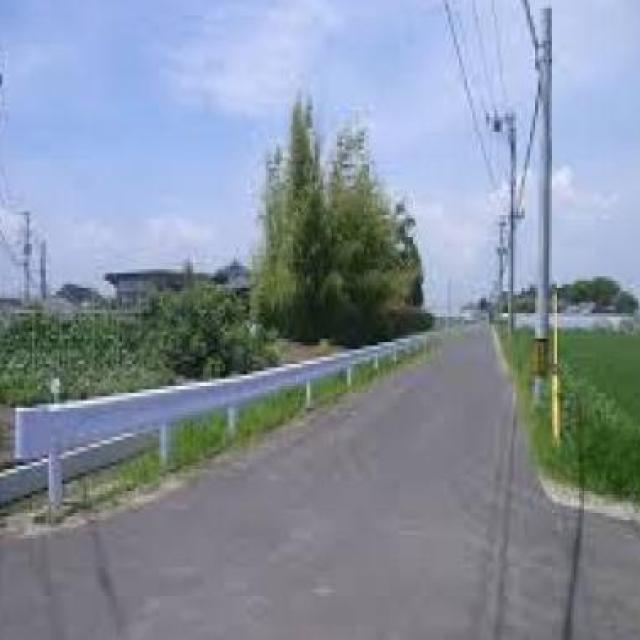Guard rail: (12, 323, 427, 520)
